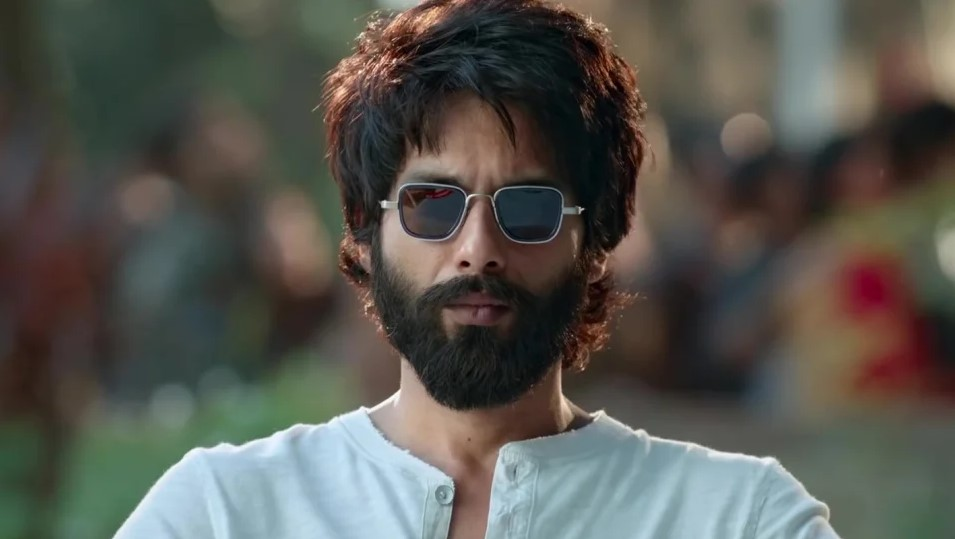face_no_mask: (357, 63, 610, 422)
